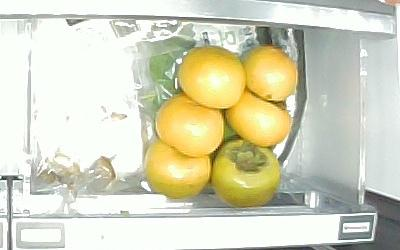persimmon: (214, 140, 282, 207), (176, 45, 246, 109), (154, 94, 224, 156), (143, 138, 211, 198), (224, 90, 291, 147), (243, 45, 298, 102)
